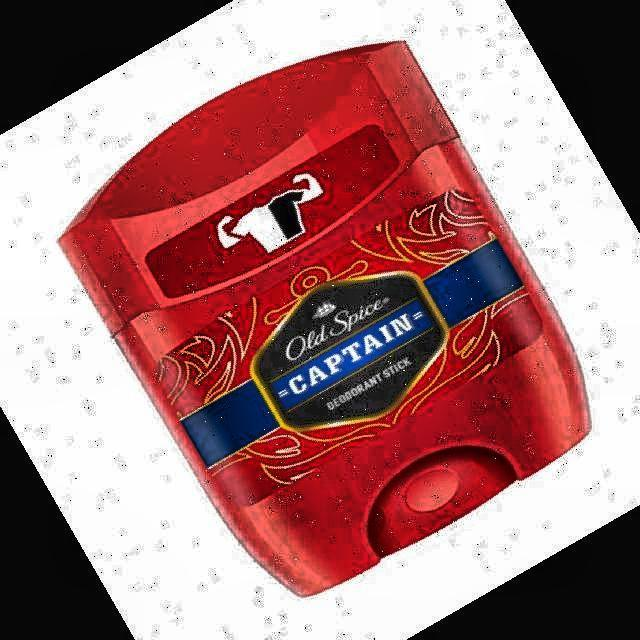plastic: (60, 41, 590, 594)
